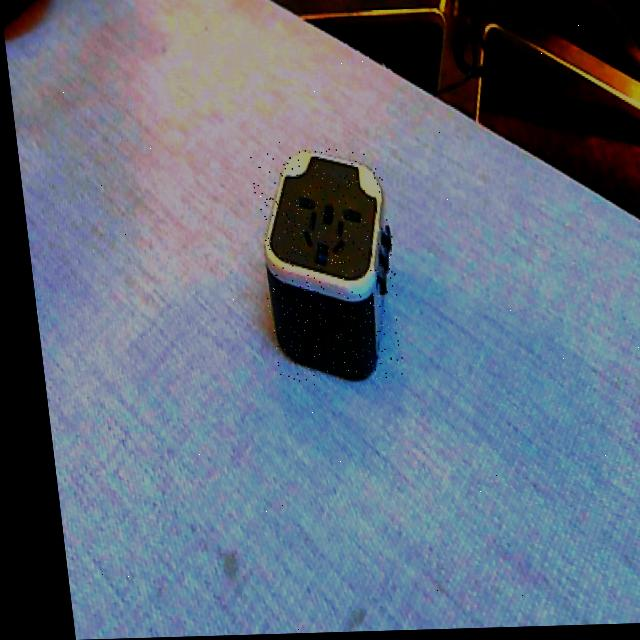adapter: (246, 150, 399, 384)
